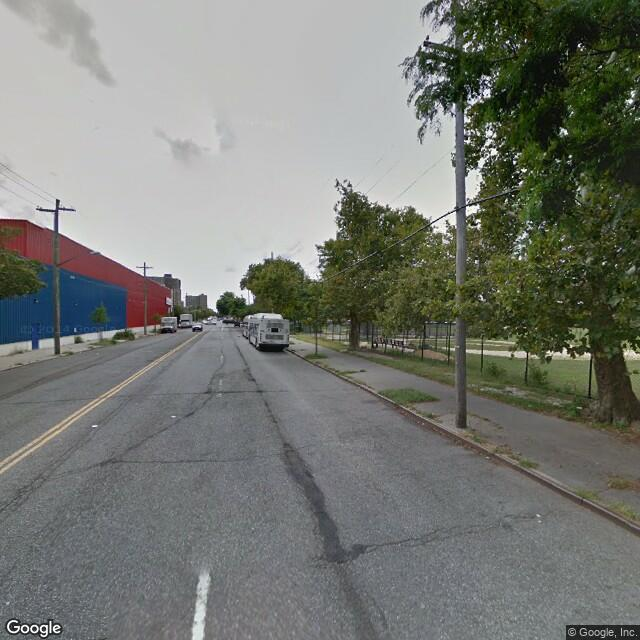litter: (573, 405, 581, 411), (91, 423, 98, 428), (535, 511, 542, 514), (171, 414, 176, 416)
